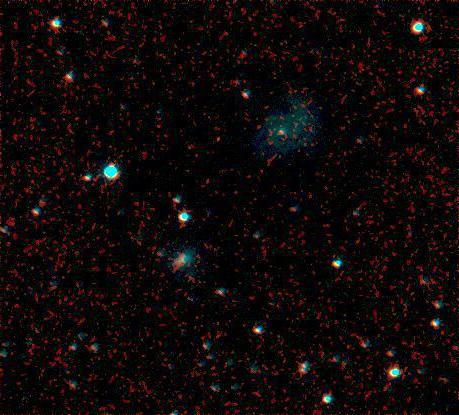star: (206, 130, 236, 160)
